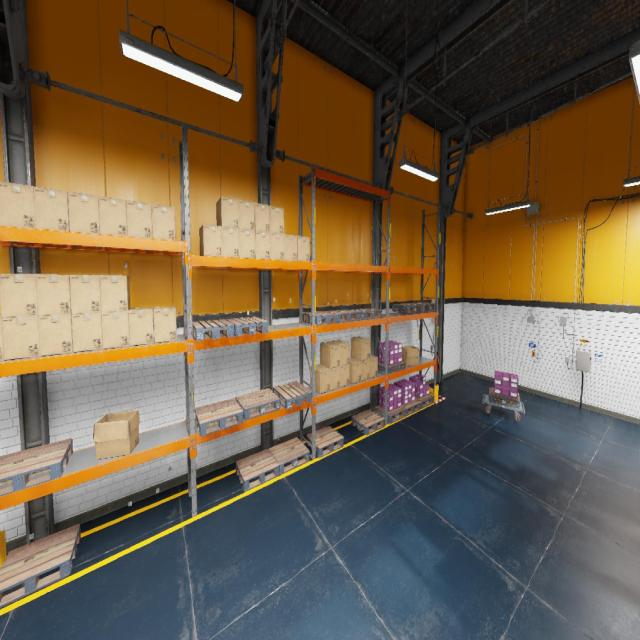box: (92, 410, 140, 459), (1, 316, 40, 360), (0, 181, 35, 228), (0, 274, 38, 317), (34, 186, 70, 231), (38, 314, 73, 356), (36, 274, 71, 315), (68, 192, 100, 234), (69, 274, 101, 314), (72, 312, 102, 352), (98, 196, 127, 236), (100, 275, 130, 312), (102, 311, 130, 349), (128, 307, 154, 345), (126, 200, 152, 238), (152, 204, 175, 240), (154, 306, 176, 343), (199, 224, 222, 257), (216, 196, 239, 228), (310, 364, 330, 393), (320, 341, 340, 368), (222, 227, 239, 257), (238, 200, 254, 230), (239, 229, 255, 258), (332, 340, 349, 366), (351, 337, 370, 360), (255, 203, 270, 232), (255, 231, 270, 259), (352, 358, 370, 380), (270, 206, 284, 234), (270, 233, 284, 259), (284, 234, 297, 261), (402, 346, 419, 366), (298, 236, 310, 261), (350, 358, 361, 383), (330, 366, 340, 391), (340, 364, 350, 387), (370, 354, 378, 378), (0, 314, 4, 361)
pallets: (0, 524, 81, 608), (0, 438, 73, 496), (195, 398, 243, 436), (236, 449, 279, 491), (269, 437, 310, 474), (235, 388, 280, 420), (306, 426, 344, 458), (272, 381, 312, 410), (192, 319, 234, 341), (351, 409, 385, 435), (225, 317, 268, 336), (489, 387, 520, 408), (375, 405, 406, 423), (303, 311, 339, 325), (326, 310, 360, 322), (351, 308, 382, 320), (378, 361, 405, 374), (401, 400, 421, 416), (392, 303, 422, 313), (407, 302, 436, 311), (416, 394, 434, 408)
